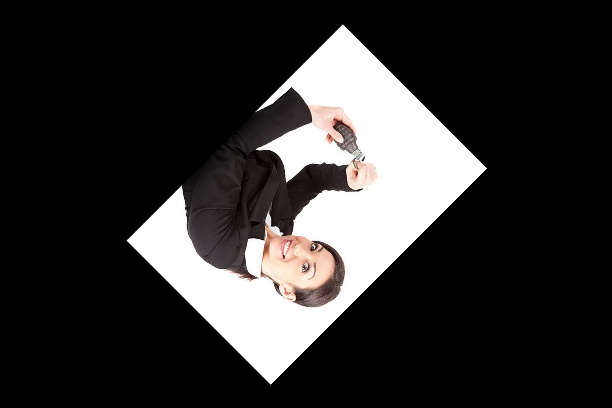e1: (325, 113, 365, 168)
